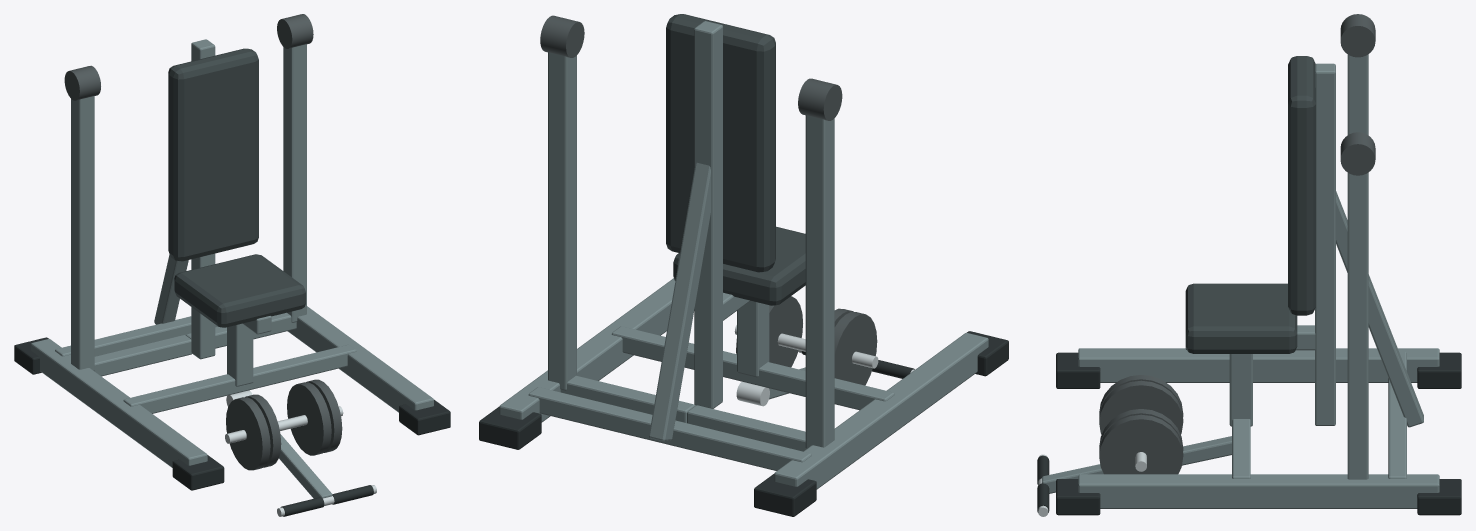
The model's file is shoulder-press-machine.v1.glb.
3 views of the same model, side by side, from view 1: azimuth 30°, elevation 25°; view 2: azimuth 150°, elevation 25°; view 3: azimuth 270°, elevation 25° (orthographic). The views are drawn at different scales.
Visible parts, largest first — view 1: Backrest spine, Back pad, Load plate.002, Load plate, Floor shoe, Bearing, Lever arm, Grip crossbar; view 2: Backrest spine, Back pad, Floor shoe, Bearing, Load plate.002, Load plate, Grip crossbar; view 3: Backrest spine, Back pad, Floor shoe, Load plate, Load plate.002, Bearing, Lever arm.
Boxes of the visible parts, x1=… form: Backrest spine: x1=31, y1=39, x2=433, y2=467; Back pad: x1=168, y1=48, x2=305, y2=327; Load plate.002: x1=226, y1=394, x2=281, y2=470; Load plate: x1=287, y1=379, x2=342, y2=455; Floor shoe: x1=14, y1=337, x2=450, y2=490; Bearing: x1=64, y1=14, x2=313, y2=100; Lever arm: x1=279, y1=434, x2=332, y2=498; Grip crossbar: x1=226, y1=390, x2=343, y2=516; Backrest spine: x1=499, y1=21, x2=988, y2=489; Back pad: x1=666, y1=14, x2=805, y2=305; Floor shoe: x1=479, y1=331, x2=1008, y2=516; Bearing: x1=540, y1=15, x2=842, y2=120; Load plate.002: x1=834, y1=308, x2=877, y2=385; Load plate: x1=736, y1=296, x2=802, y2=367; Grip crossbar: x1=734, y1=325, x2=914, y2=406; Backrest spine: x1=1078, y1=54, x2=1439, y2=508; Back pad: x1=1185, y1=56, x2=1315, y2=353; Floor shoe: x1=1056, y1=352, x2=1461, y2=515; Load plate: x1=1099, y1=409, x2=1183, y2=474; Load plate.002: x1=1099, y1=375, x2=1183, y2=434; Bearing: x1=1340, y1=14, x2=1375, y2=175; Lever arm: x1=1042, y1=436, x2=1231, y2=493.
Size of the model in its own units: 1.47 by 2.01 by 1.82.
